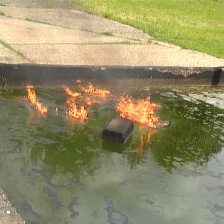fire_h: (117, 90, 170, 130), (26, 85, 47, 115), (76, 78, 109, 97), (66, 98, 87, 119)
fire_l: (65, 86, 81, 98), (138, 130, 144, 151), (146, 129, 152, 144)
